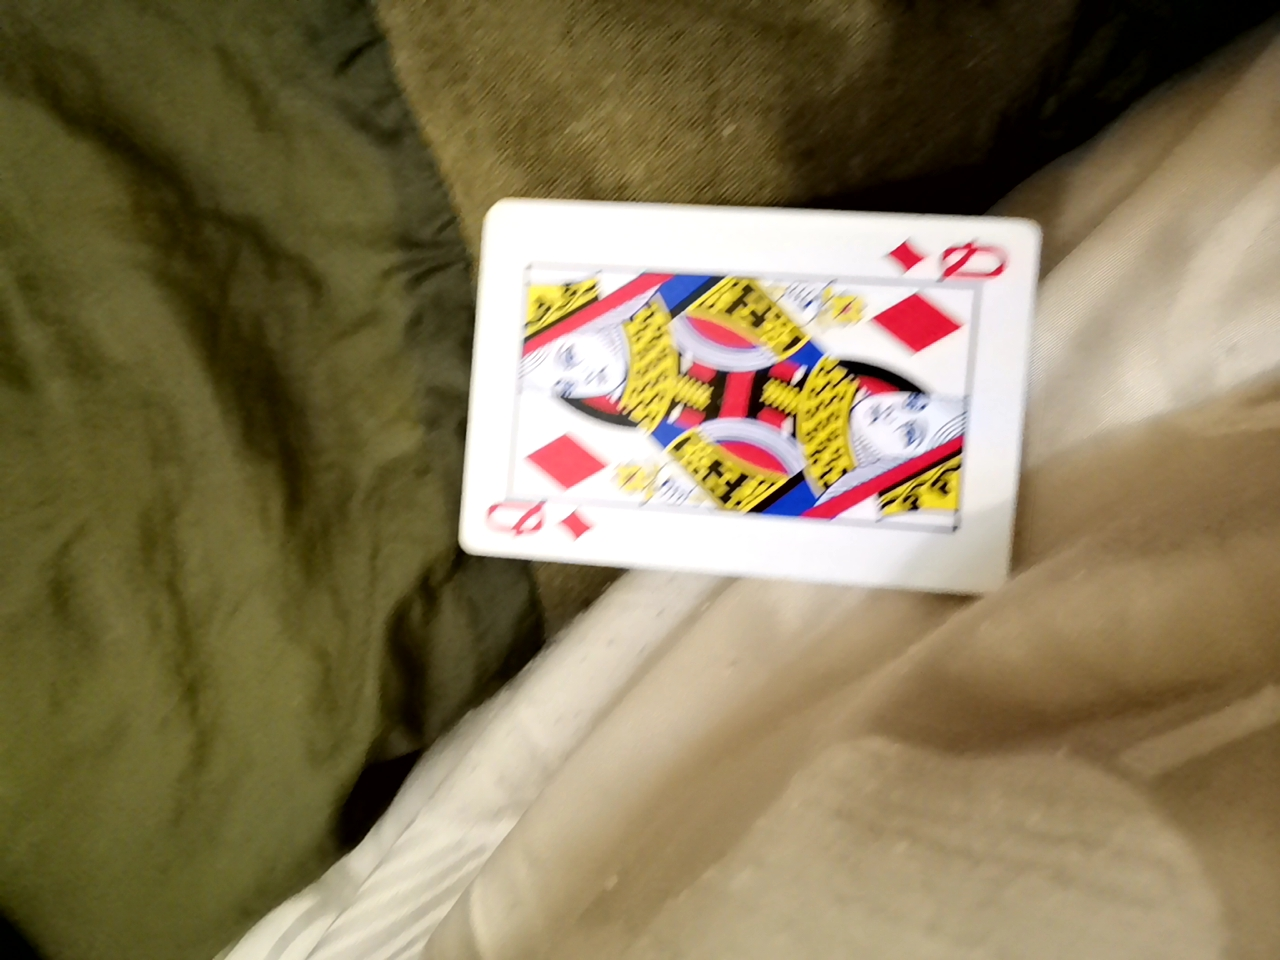fk q: (519, 142, 1111, 536)
